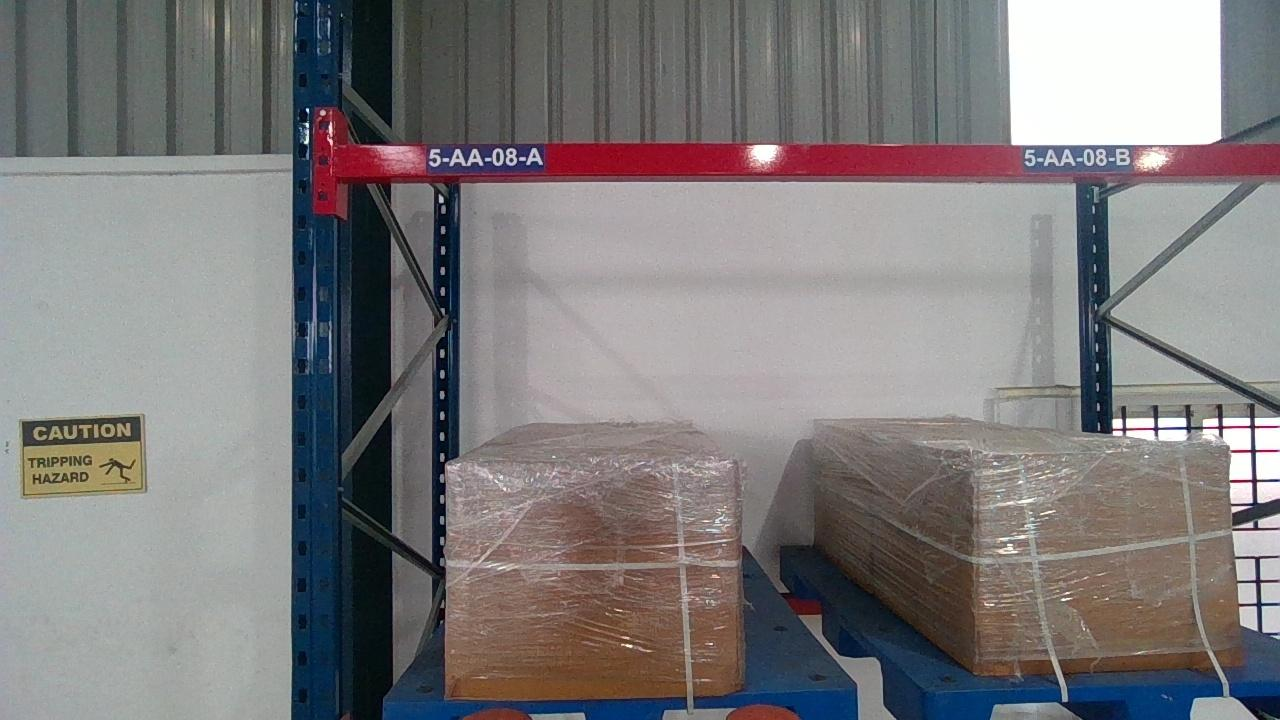h_rack: (335, 141, 1279, 177)
small_pallet: (380, 692, 856, 719), (932, 683, 1277, 719)
